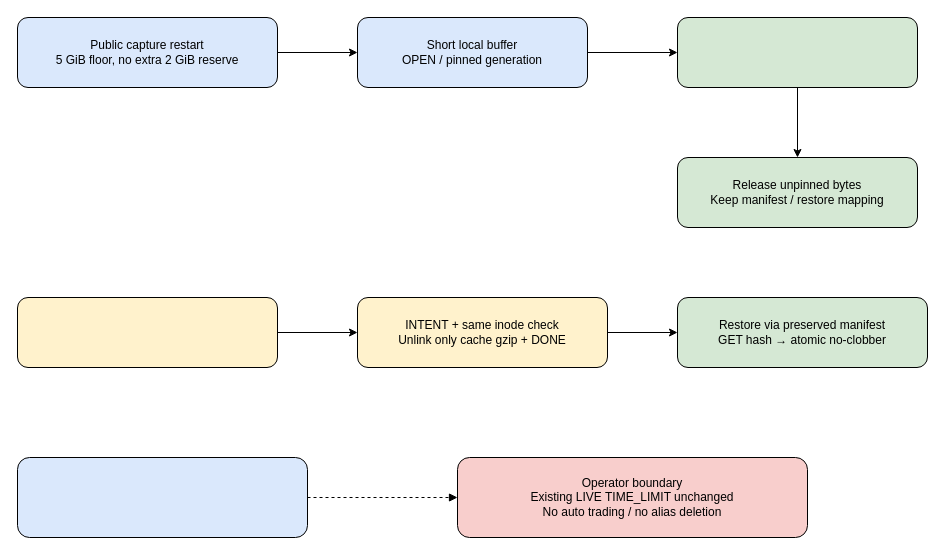
Image size: 945x555. Some labels were removed from this diagram. Each missing label, with the centre of its shape:
"Exact completed catalogue cache Workspace lock + COS full GET" goes at [147,332].
"Offline: explicit duration=null All other risk / identity checks stay" goes at [162,497].
"SEALED → COS verified GET SHA256 check" goes at [797,52].
